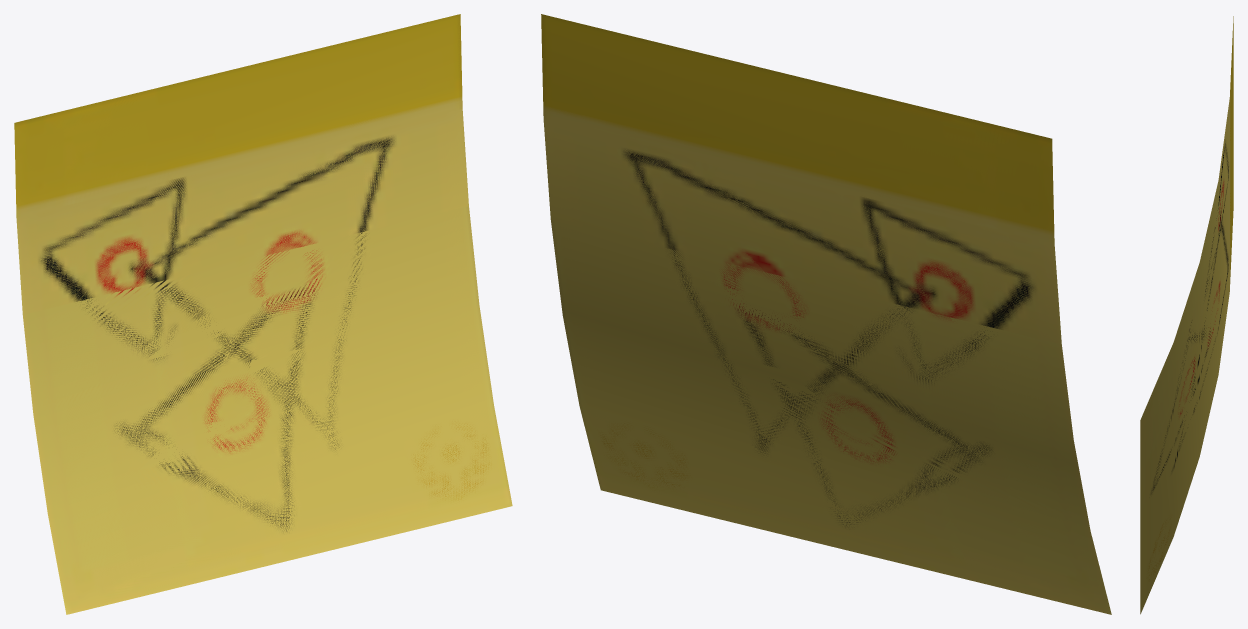
File: notes_herber_postit_6.dae
The picture shows the model from 3 angles, left to right: view 1: azimuth 30°, elevation 25°; view 2: azimuth 150°, elevation 25°; view 3: azimuth 270°, elevation 25°; orthographic projection. The views are drawn at different scales.
Visible parts, largest first — view 1: postit_6; view 2: postit_6; view 3: postit_6.
Part boxes in pixels (x1,y1,x2,y2): postit_6: (14,14,512,614); postit_6: (541,14,1111,614); postit_6: (1140,16,1233,614).
Size of the model in its own units: 0.0875 by 0.0851 by 0.0177.
